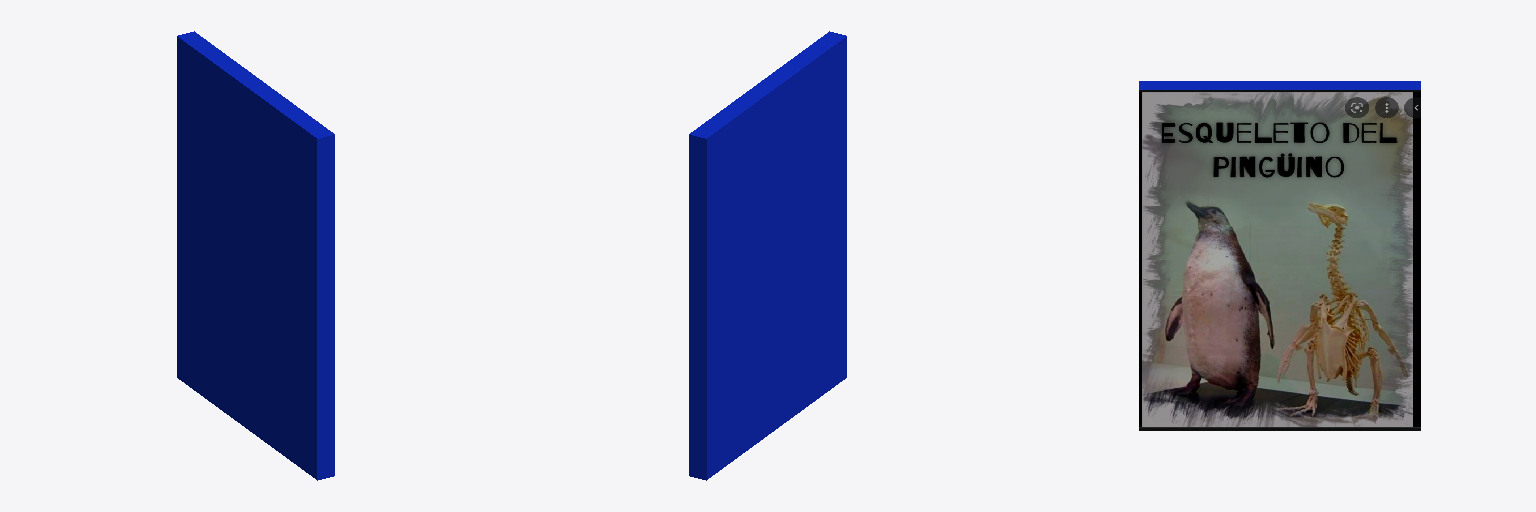
The picture shows the model from 3 angles: view 1: azimuth 30°, elevation 25°; view 2: azimuth 150°, elevation 25°; view 3: azimuth 270°, elevation 25°; orthographic projection.
Visible parts, largest first — view 1: Cube; view 2: Cube; view 3: Cube.
Boxes of the visible parts, box(x1,y1,x2,y2) form: Cube: box(177, 31, 334, 480); Cube: box(689, 31, 846, 480); Cube: box(1139, 81, 1420, 430).
Bounding box in the file's own units: 0.1469 × 2.68 × 2.
Materials: 2 (1 with a texture image).